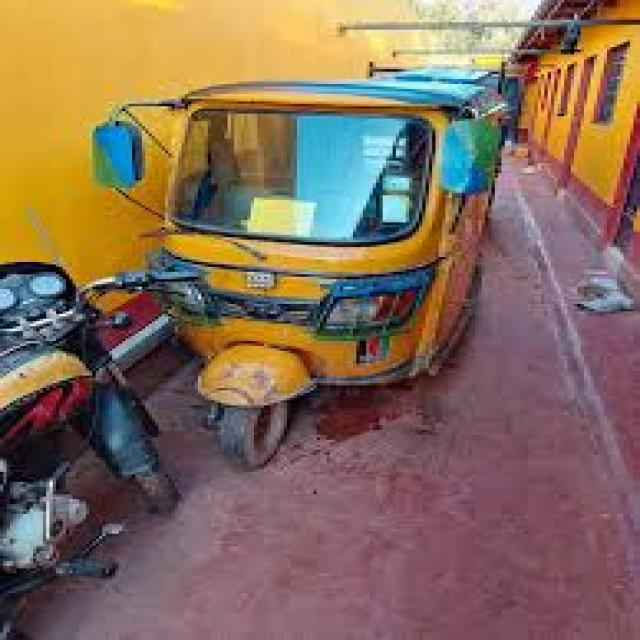tuktuk: (59, 17, 578, 481)
